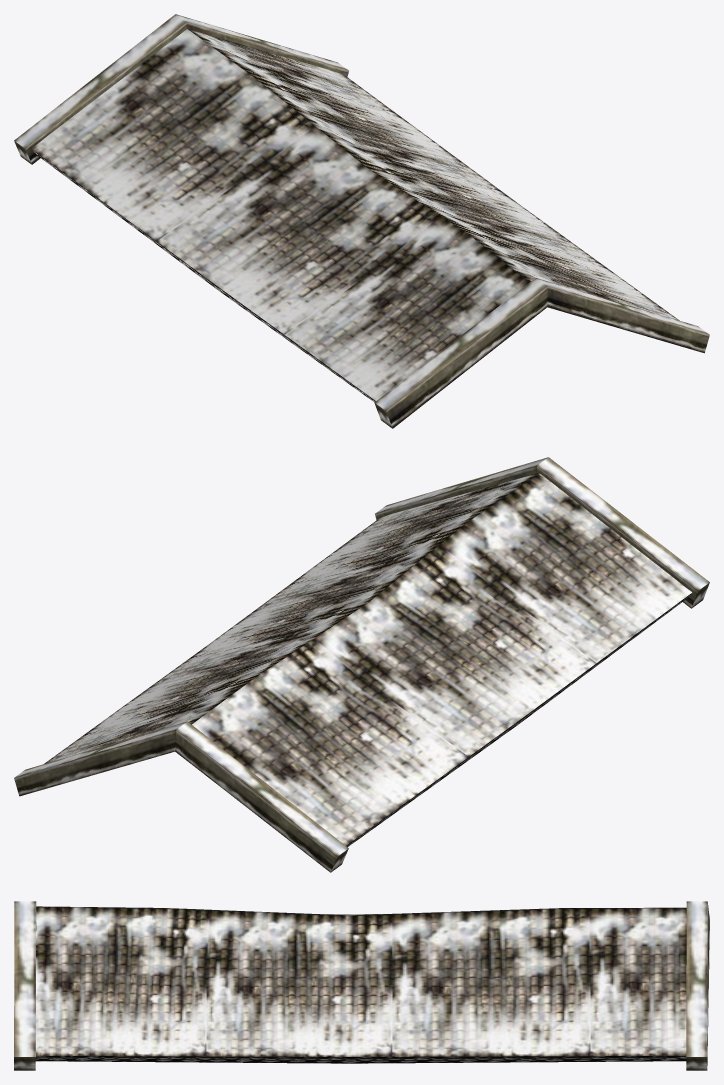
File: fangd01.obj
3 renders of one model, top to bottom at view 1: azimuth 30°, elevation 25°; view 2: azimuth 150°, elevation 25°; view 3: azimuth 270°, elevation 25°, orthographic. The views are drawn at different scales.
Parts seen in each view (by area): view 1: fangd01; view 2: fangd01; view 3: fangd01.
Boxes of the visible parts, <box> form: fangd01: <box>14,14,709,428</box>; fangd01: <box>14,457,709,872</box>; fangd01: <box>14,901,709,1070</box>.
Size of the model in its own units: 97.97 by 30.42 by 196.
